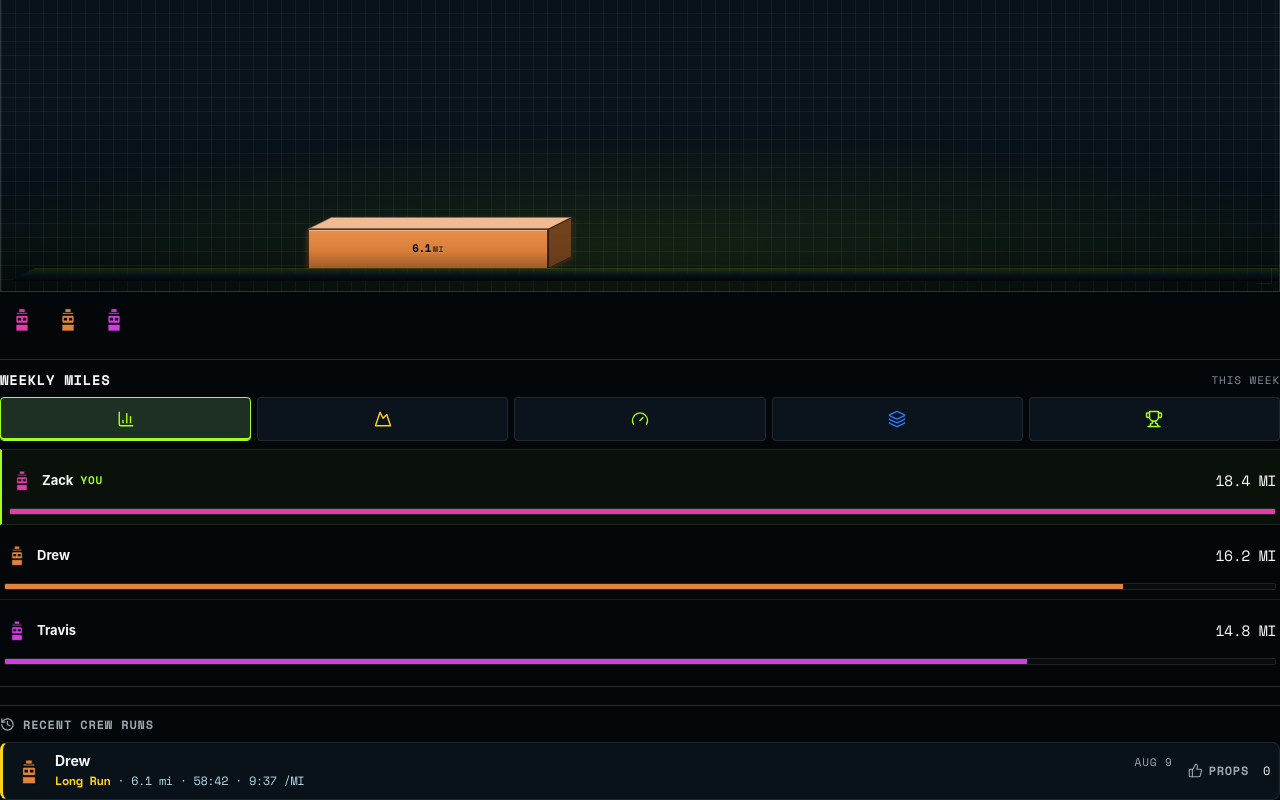
Test case: Crew comparisons and runs › opens a crew-safe detail and never exposes personal/private fields
(page scrolled)
Click the button named "Open crew-safe run detail": (29, 771) [3,743,1183,799]
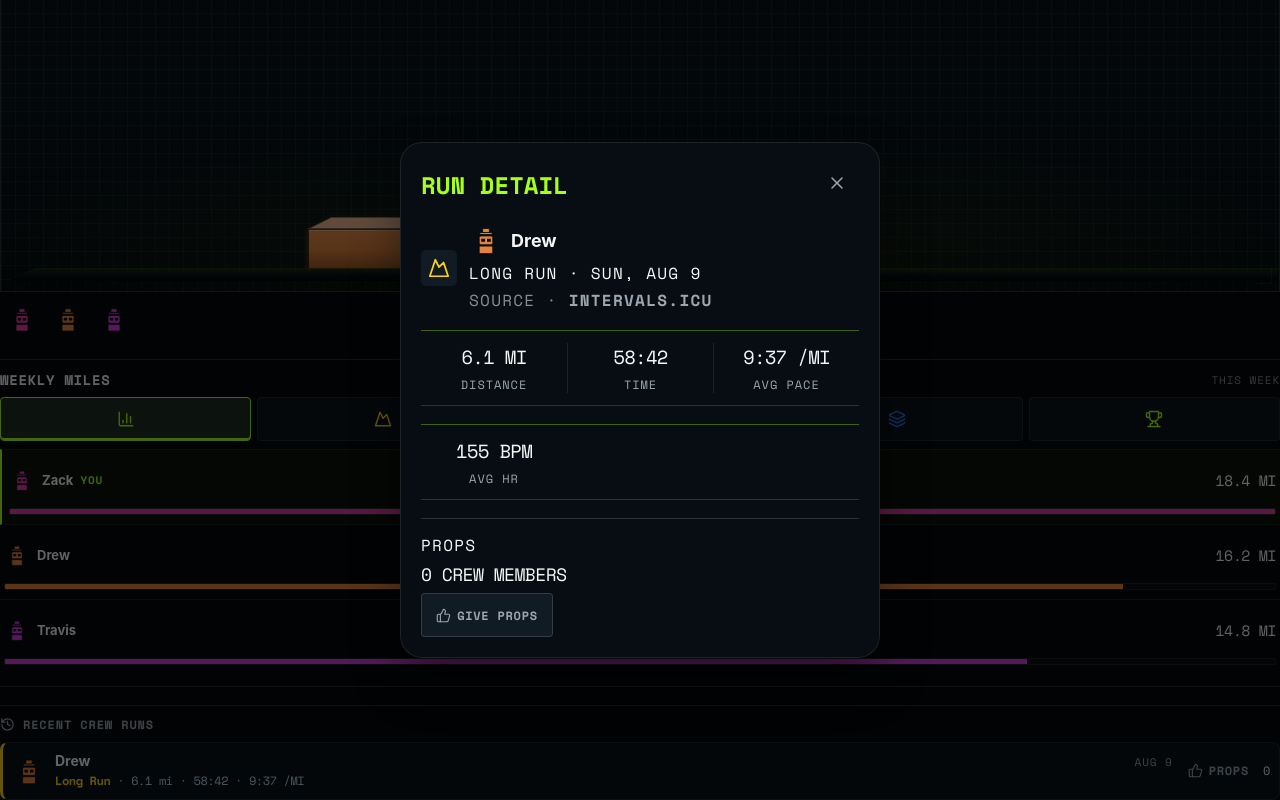
expect the text "Drew" is shown: met, box [511,230,557,250]
expect the text "6.1 MI" is shown: met, box [461,343,527,371]
expect the text "58:42" is shown: met, box [613,343,668,371]
